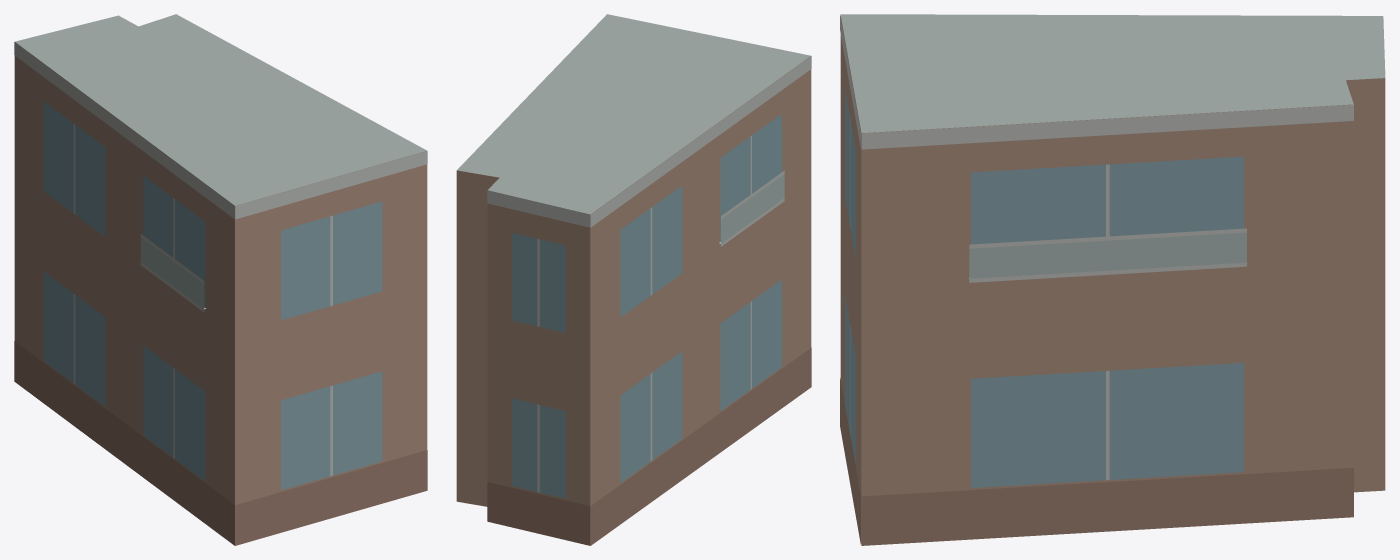
The model's file is survey-upis-32467513.glb.
The picture shows the model from 3 angles, left to right: view 1: azimuth 30°, elevation 25°; view 2: azimuth 150°, elevation 25°; view 3: azimuth 270°, elevation 25°; orthographic projection. The views are drawn at different scales.
Visible parts, largest first — view 1: survey-upis-32467513.tmp; view 2: survey-upis-32467513.tmp; view 3: survey-upis-32467513.tmp.
Part boxes in pixels (x1,y1,x2,y2): survey-upis-32467513.tmp: (14,14,427,545); survey-upis-32467513.tmp: (456,14,811,545); survey-upis-32467513.tmp: (840,14,1385,545).
Bounding box in the file's own units: 3.81 × 6.1 × 7.31.
